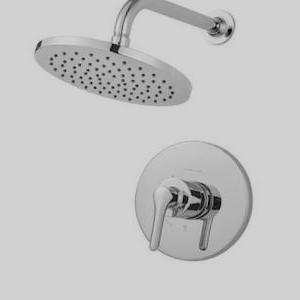Ducha: (31, 0, 267, 273)
